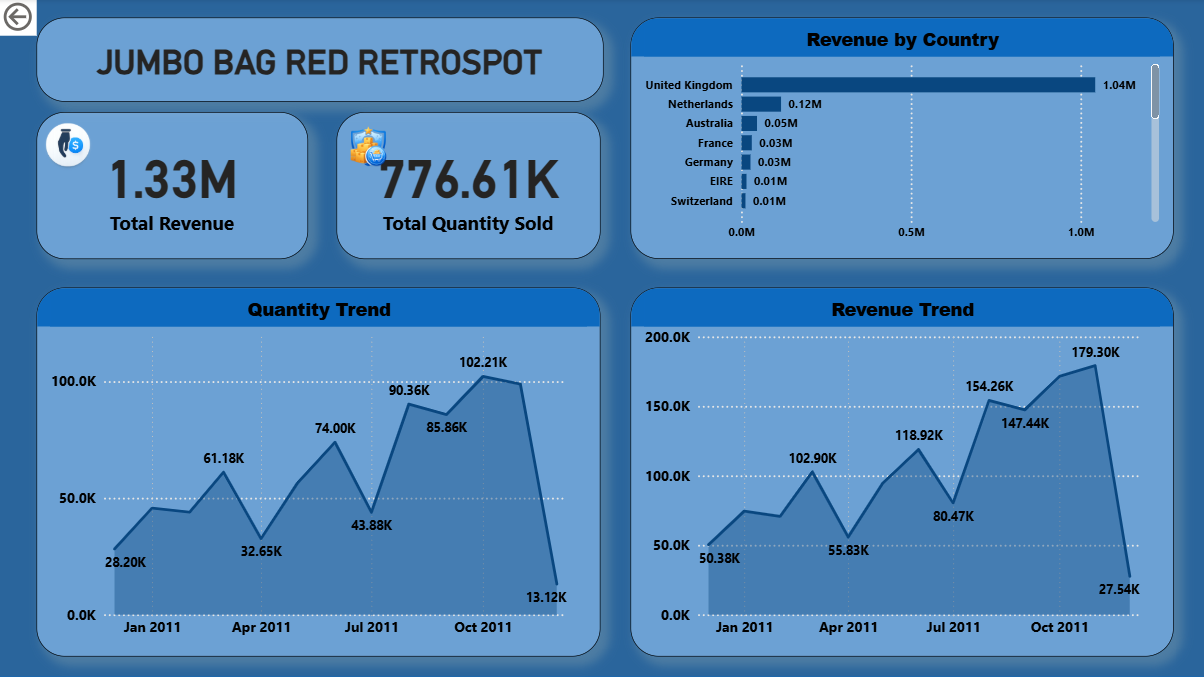

The dashboard page shown, as its layout file describes it:
{"tool":"powerbi","page":{"name":"Product Details","canvas":[1280,720],"ordinal":3},"visuals":[{"type":"shape","box":[0,0,1280.4,720.5],"z":0},{"type":"actionButton","box":[0,0,39.8,39.8],"z":1000},{"type":"lineChart","title":"Revenue Trend","fields":{"Y":["clean_sales.Total Revenue"],"Category":["clean_sales.InvoiceDate (bins)"]},"box":[669.6,307,575.8,391.3],"z":2000},{"type":"lineChart","title":"Quantity Trend ","fields":{"Y":["clean_sales.Total Quantity Sold"],"Category":["clean_sales.InvoiceDate (bins)"]},"box":[39.8,307,598.1,391.3],"z":3000},{"type":"clusteredBarChart","title":"Revenue by Country","fields":{"Y":["clean_sales.Total Revenue"],"Category":["clean_sales.Country"]},"box":[669.6,20.7,575.8,256.1],"z":4000},{"type":"card","fields":{"Values":["Min(clean_sales.Description)"]},"box":[39.8,20.7,601.3,89.1],"z":5000},{"type":"card","fields":{"Values":["clean_sales.Total Revenue"]},"box":[39.8,120.9,287.9,155.9],"z":6000},{"type":"card","fields":{"Values":["clean_sales.Total Quantity Sold"]},"box":[357.9,120.9,279.9,155.9],"z":7000},{"type":"image","box":[31.8,108.2,68.4,101.8],"z":8000},{"type":"image","box":[362.7,116.1,52.5,84.3],"z":9000}]}

Visuals, with their boxes in screenshot pixels (x1, y1, x2, y2), scaled from the page's 1280x720 canvas onto the 1204x677 screenshot:
shape: pyautogui.locateOnScreen(0, 0, 1203, 676)
actionButton: pyautogui.locateOnScreen(0, 0, 37, 37)
"Revenue Trend" lineChart: pyautogui.locateOnScreen(630, 289, 1171, 657)
"Quantity Trend " lineChart: pyautogui.locateOnScreen(37, 289, 600, 657)
"Revenue by Country" clusteredBarChart: pyautogui.locateOnScreen(630, 19, 1171, 260)
card - Min(clean_sales.Description): pyautogui.locateOnScreen(37, 19, 603, 103)
card - clean_sales.Total Revenue: pyautogui.locateOnScreen(37, 114, 308, 260)
card - clean_sales.Total Quantity Sold: pyautogui.locateOnScreen(337, 114, 600, 260)
image: pyautogui.locateOnScreen(30, 102, 94, 197)
image: pyautogui.locateOnScreen(341, 109, 391, 188)
